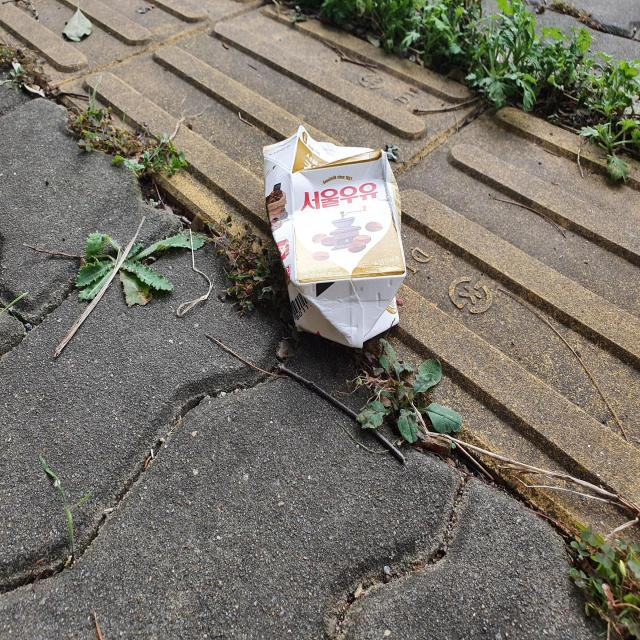paperpack: (264, 124, 406, 347)
